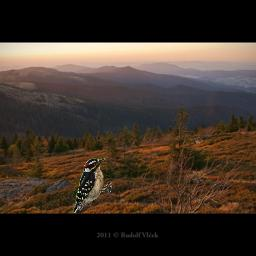Woodpecker: (73, 158, 112, 213)
